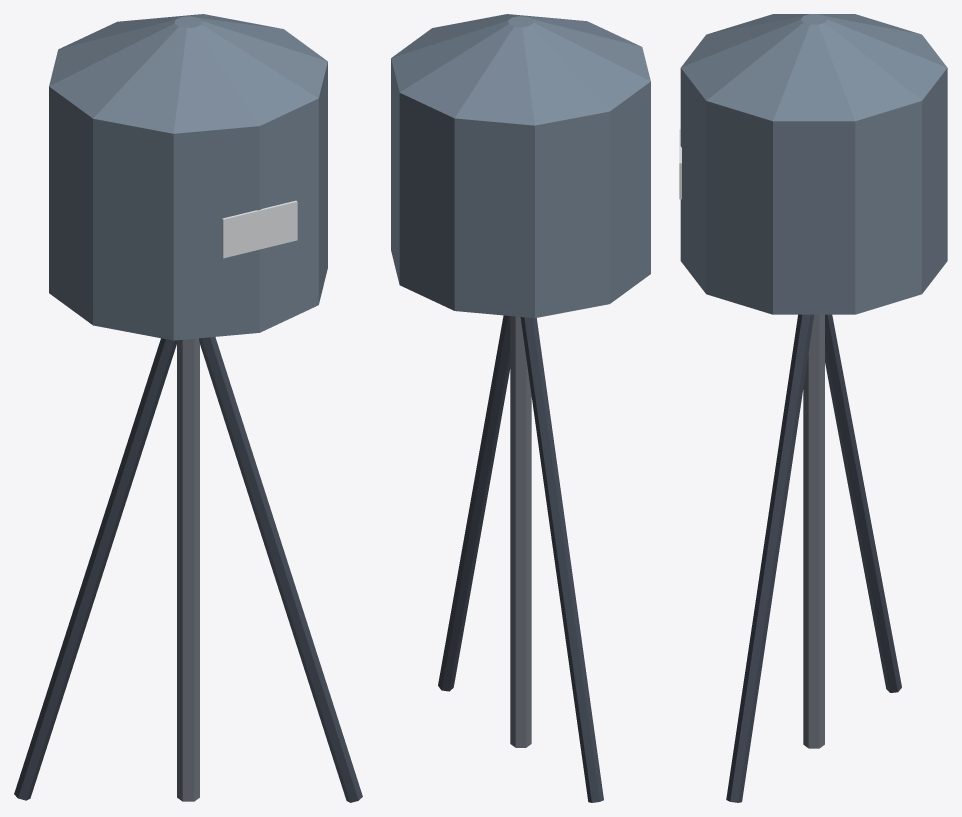
The model's file is water_tower_small.glb.
3 views of the same model, side by side, from view 1: azimuth 30°, elevation 25°; view 2: azimuth 150°, elevation 25°; view 3: azimuth 270°, elevation 25° (orthographic). The views are drawn at different scales.
Parts seen in each view (by area): view 1: water_tower_small; view 2: water_tower_small; view 3: water_tower_small.
Boxes of the visible parts, bbox=[...] form: water_tower_small: bbox=[14, 14, 362, 802]; water_tower_small: bbox=[391, 14, 650, 802]; water_tower_small: bbox=[679, 14, 947, 802].
Bounding box in the file's own units: 2.1 × 6.02 × 2.01.
